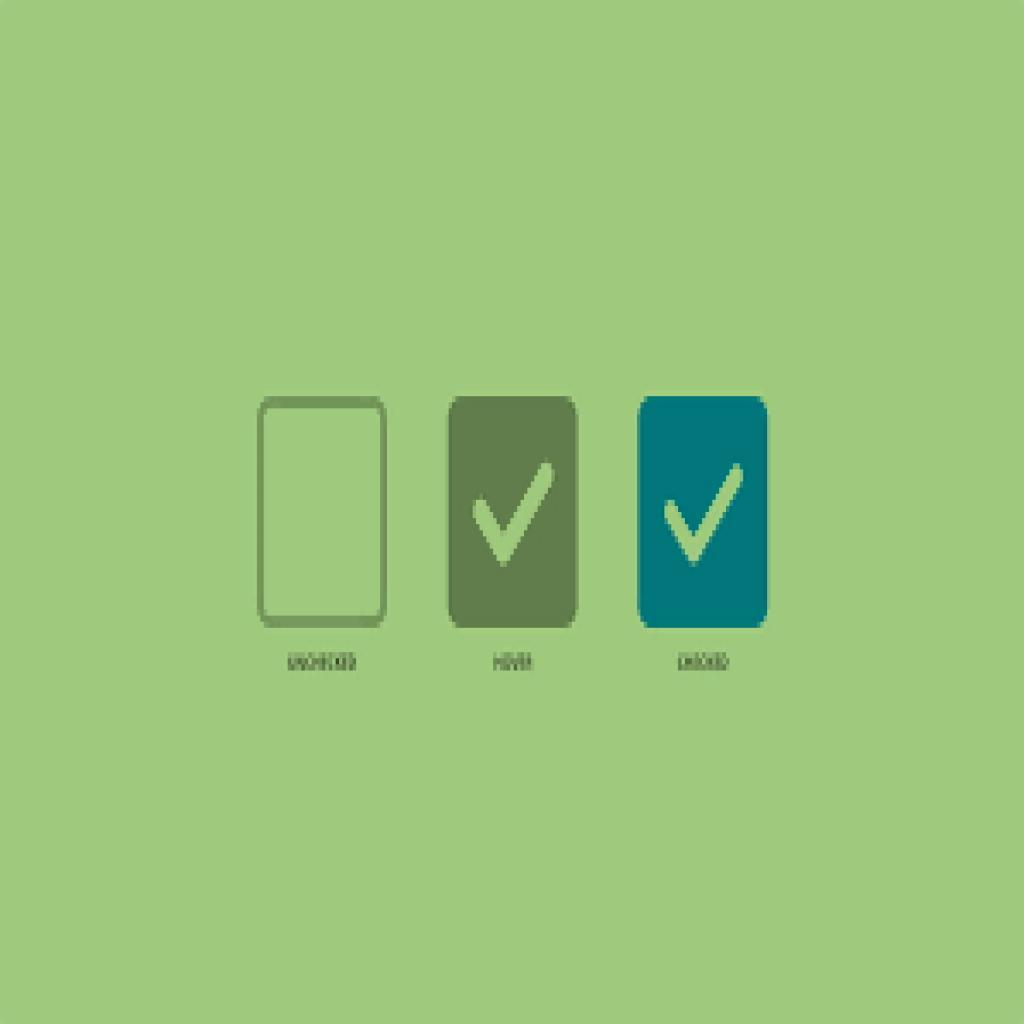checkbox: (637, 396, 770, 630), (448, 397, 580, 631), (256, 397, 389, 629)
